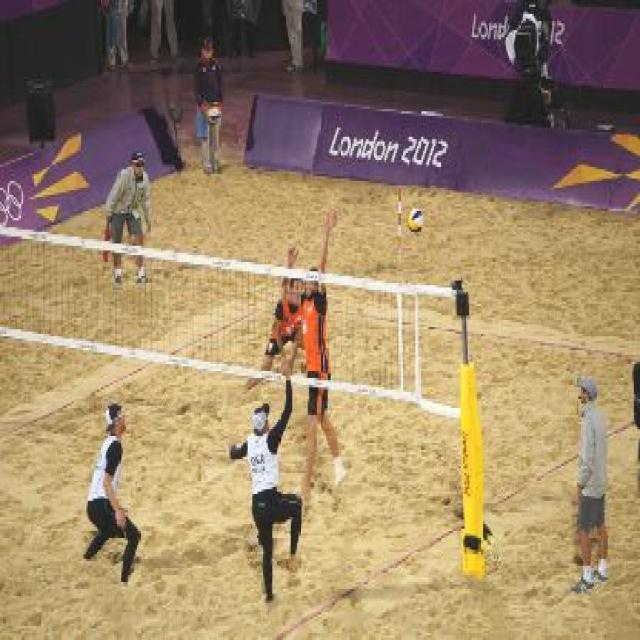volleyball: (406, 208, 424, 232)
